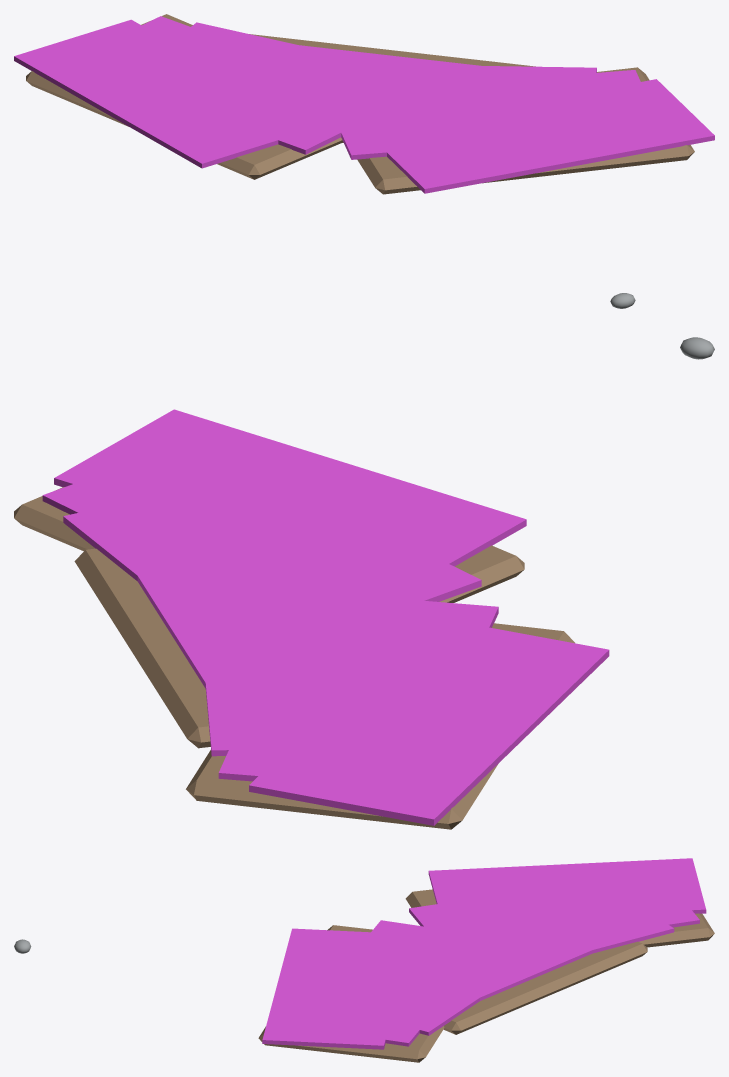
3 renders of one model, top to bottom at view 1: azimuth 30°, elevation 25°; view 2: azimuth 150°, elevation 25°; view 3: azimuth 270°, elevation 25°, orthographic. The views are drawn at different scales.
Parts seen in each view (by area): view 1: NAV_MASK_FOREST_PATH_DIRT_CURVE_ARC_01, NAV_MASK_FOREST_PATH_DIRT_CURVE_ARC_07, NAV_MASK_FOREST_PATH_DIRT_CURVE_ARC_02, NAV_MASK_FOREST_PATH_DIRT_CURVE_ARC_04, NAV_MASK_FOREST_PATH_DIRT_CURVE_ARC_03, NAV_MASK_FOREST_PATH_DIRT_CURVE_ARC_06, NAV_MASK_FOREST_PATH_DIRT_CURVE_ARC_05, LOD2_FOREST_PATH_DIRT_CURVE_Arc_01, LOD2_FOREST_PATH_DIRT_CURVE_Arc_03, LOD2_FOREST_PATH_DIRT_CURVE_Arc_02; view 2: NAV_MASK_FOREST_PATH_DIRT_CURVE_ARC_04, NAV_MASK_FOREST_PATH_DIRT_CURVE_ARC_01, NAV_MASK_FOREST_PATH_DIRT_CURVE_ARC_07, NAV_MASK_FOREST_PATH_DIRT_CURVE_ARC_02, NAV_MASK_FOREST_PATH_DIRT_CURVE_ARC_06, NAV_MASK_FOREST_PATH_DIRT_CURVE_ARC_03, LOD2_FOREST_PATH_DIRT_CURVE_Arc_02, NAV_MASK_FOREST_PATH_DIRT_CURVE_ARC_05, LOD2_FOREST_PATH_DIRT_CURVE_Arc_03, LOD2_FOREST_PATH_DIRT_CURVE_Arc_01; view 3: NAV_MASK_FOREST_PATH_DIRT_CURVE_ARC_02, NAV_MASK_FOREST_PATH_DIRT_CURVE_ARC_07, NAV_MASK_FOREST_PATH_DIRT_CURVE_ARC_01, NAV_MASK_FOREST_PATH_DIRT_CURVE_ARC_06, NAV_MASK_FOREST_PATH_DIRT_CURVE_ARC_04, NAV_MASK_FOREST_PATH_DIRT_CURVE_ARC_03, NAV_MASK_FOREST_PATH_DIRT_CURVE_ARC_05, LOD2_FOREST_PATH_DIRT_CURVE_Arc_02, LOD2_FOREST_PATH_DIRT_CURVE_Arc_01, LOD2_FOREST_PATH_DIRT_CURVE_Arc_03.
Part boxes in pixels (bbox=[...]): NAV_MASK_FOREST_PATH_DIRT_CURVE_ARC_01: bbox=[367, 79, 714, 193]; NAV_MASK_FOREST_PATH_DIRT_CURVE_ARC_07: bbox=[14, 19, 318, 168]; NAV_MASK_FOREST_PATH_DIRT_CURVE_ARC_02: bbox=[326, 70, 661, 159]; NAV_MASK_FOREST_PATH_DIRT_CURVE_ARC_04: bbox=[202, 38, 542, 132]; NAV_MASK_FOREST_PATH_DIRT_CURVE_ARC_03: bbox=[275, 62, 596, 125]; NAV_MASK_FOREST_PATH_DIRT_CURVE_ARC_06: bbox=[66, 16, 358, 154]; NAV_MASK_FOREST_PATH_DIRT_CURVE_ARC_05: bbox=[132, 22, 470, 123]; LOD2_FOREST_PATH_DIRT_CURVE_Arc_01: bbox=[357, 67, 694, 194]; LOD2_FOREST_PATH_DIRT_CURVE_Arc_03: bbox=[26, 14, 342, 179]; LOD2_FOREST_PATH_DIRT_CURVE_Arc_02: bbox=[249, 34, 535, 142]; NAV_MASK_FOREST_PATH_DIRT_CURVE_ARC_04: bbox=[115, 518, 422, 718]; NAV_MASK_FOREST_PATH_DIRT_CURVE_ARC_01: bbox=[54, 409, 526, 566]; NAV_MASK_FOREST_PATH_DIRT_CURVE_ARC_07: bbox=[249, 615, 609, 825]; NAV_MASK_FOREST_PATH_DIRT_CURVE_ARC_02: bbox=[42, 440, 481, 635]; NAV_MASK_FOREST_PATH_DIRT_CURVE_ARC_06: bbox=[218, 601, 498, 788]; NAV_MASK_FOREST_PATH_DIRT_CURVE_ARC_03: bbox=[63, 513, 412, 679]; LOD2_FOREST_PATH_DIRT_CURVE_Arc_02: bbox=[74, 548, 210, 748]; NAV_MASK_FOREST_PATH_DIRT_CURVE_ARC_05: bbox=[203, 562, 413, 756]; LOD2_FOREST_PATH_DIRT_CURVE_Arc_03: bbox=[186, 623, 574, 829]; LOD2_FOREST_PATH_DIRT_CURVE_Arc_01: bbox=[14, 487, 524, 602]; NAV_MASK_FOREST_PATH_DIRT_CURVE_ARC_02: bbox=[294, 920, 495, 1046]; NAV_MASK_FOREST_PATH_DIRT_CURVE_ARC_07: bbox=[428, 858, 706, 921]; NAV_MASK_FOREST_PATH_DIRT_CURVE_ARC_01: bbox=[262, 928, 412, 1049]; NAV_MASK_FOREST_PATH_DIRT_CURVE_ARC_06: bbox=[409, 871, 699, 950]; NAV_MASK_FOREST_PATH_DIRT_CURVE_ARC_04: bbox=[356, 898, 629, 1000]; NAV_MASK_FOREST_PATH_DIRT_CURVE_ARC_03: bbox=[341, 910, 569, 1035]; NAV_MASK_FOREST_PATH_DIRT_CURVE_ARC_05: bbox=[385, 884, 674, 981]; LOD2_FOREST_PATH_DIRT_CURVE_Arc_02: bbox=[443, 941, 647, 1034]; LOD2_FOREST_PATH_DIRT_CURVE_Arc_01: bbox=[258, 925, 444, 1062]; LOD2_FOREST_PATH_DIRT_CURVE_Arc_03: bbox=[405, 889, 714, 947].
Size of what is drawn, in the model's own units: 5.26 by 0.24 by 8.08.
